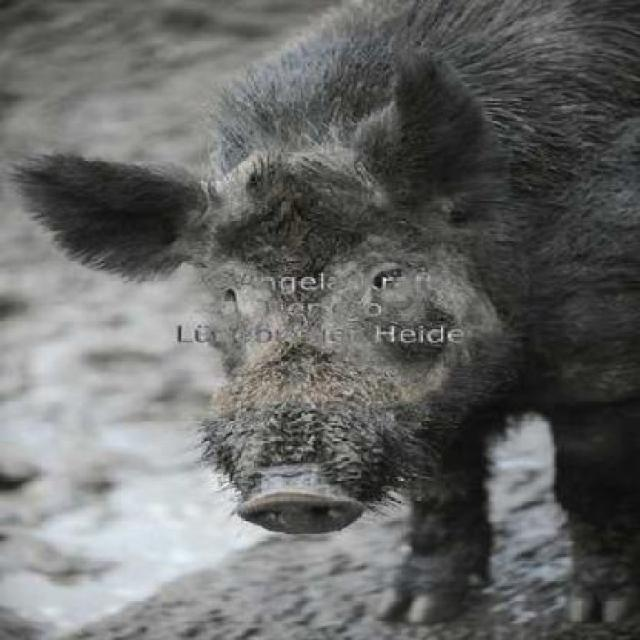pig: (137, 0, 638, 597)
